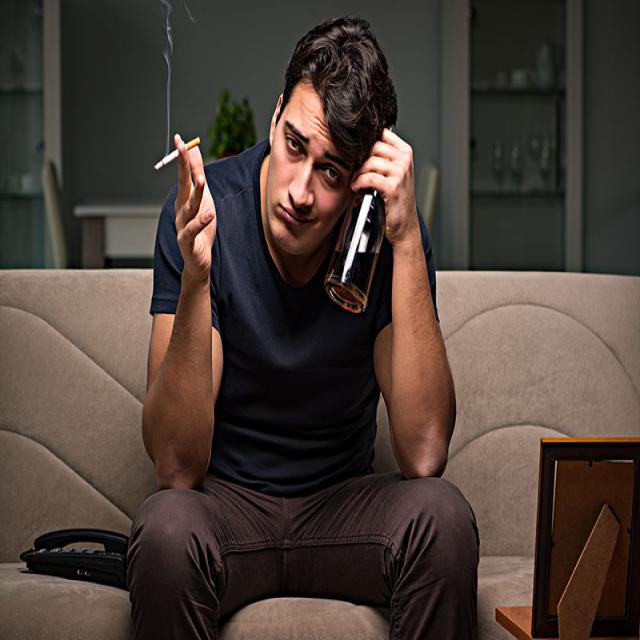smoking: (153, 136, 202, 170)
